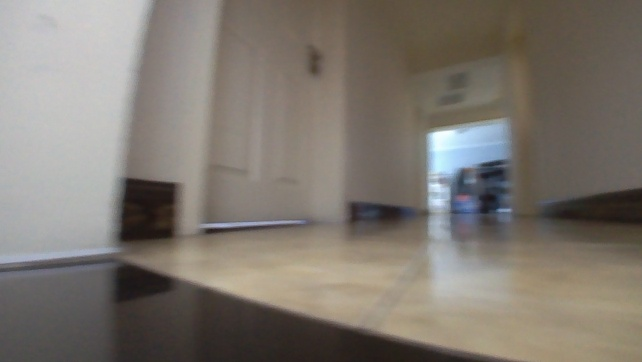door_anno: (168, 0, 353, 237)
